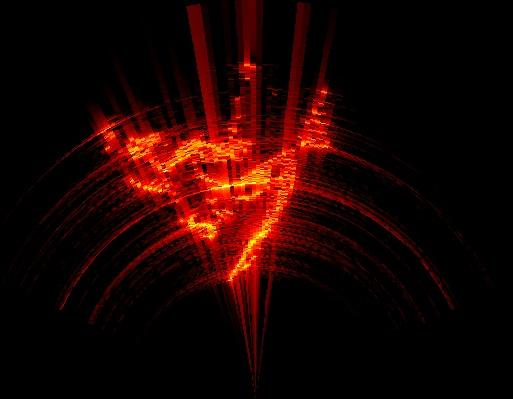shipwreck: (101, 100, 328, 278)
